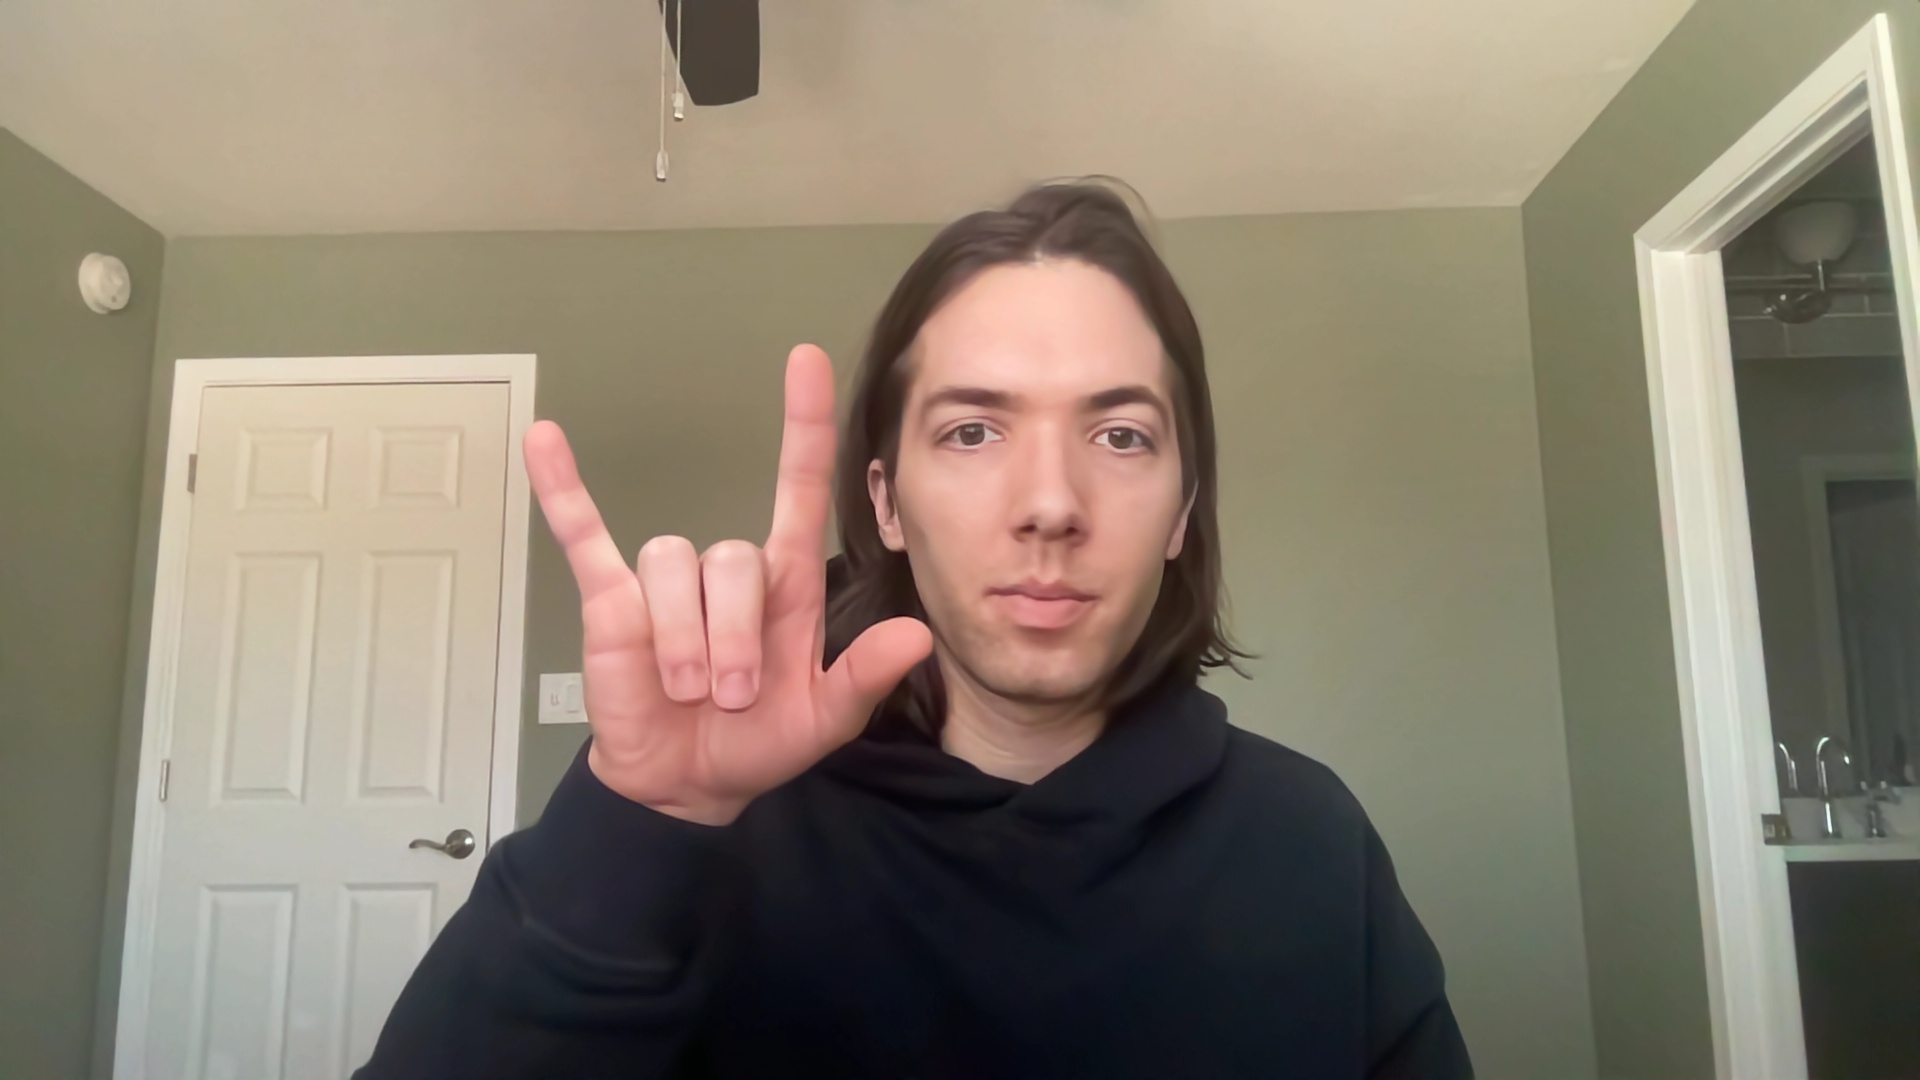I Love You: (508, 327, 955, 848)
